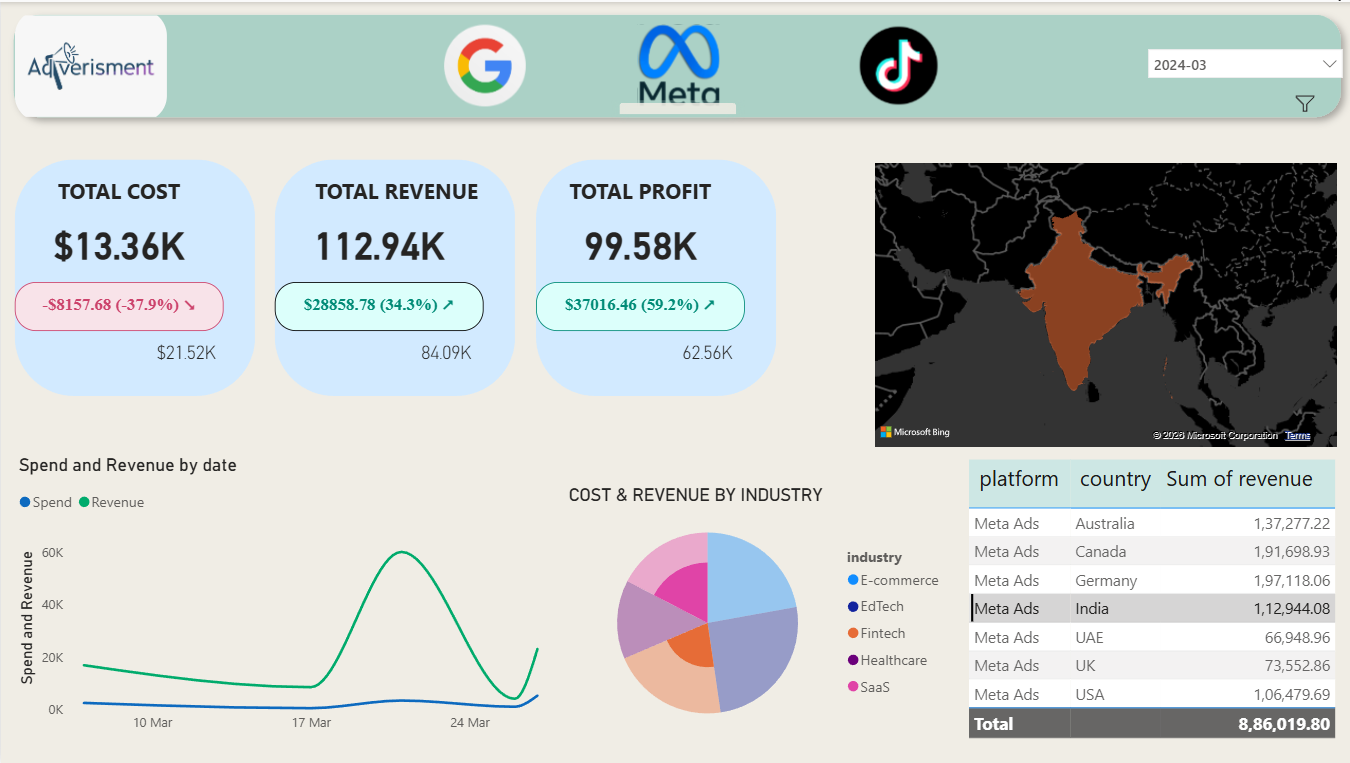

Layout of this report page (visuals, bound fields, positions):
{"tool":"powerbi","page":{"name":"Page 1","canvas":[1280,720],"ordinal":0},"visuals":[{"type":"shape","box":[505.7,148.9,227.5,223.8],"z":0,"group":"g2"},{"type":"shape","box":[259.3,149.1,227.5,223.8],"z":0,"group":"g3"},{"type":"group","id":"g1","title":"Group 1","box":[12.5,149.3,226.7,223.3],"z":0},{"type":"shape","box":[12.5,149.3,227.5,223.8],"z":0,"group":"g1"},{"type":"shape","box":[0,0,1279.7,121],"z":1000},{"type":"slicer","fields":{"Values":["Date Table.YearMonth"]},"box":[1075,33.8,204.7,53.4],"z":2000},{"type":"card","title":"TOTAL PROFIT","fields":{"Values":["global_ads_performance_dataset.Selected Month PROFIT"]},"box":[505.7,163.9,197.5,101.2],"z":3000,"group":"g2"},{"type":"card","title":"TOTAL REVENUE","fields":{"Values":["global_ads_performance_dataset.Selected Month REVENUE"]},"box":[259.3,164.1,197.5,101.2],"z":3000,"group":"g3"},{"type":"card","title":"TOTAL COST","fields":{"Values":["global_ads_performance_dataset.Selected Month COST"]},"box":[12.5,164.3,197.5,101.2],"z":3000,"group":"g1"},{"type":"lineStackedColumnComboChart","fields":{"Category":["global_ads_performance_dataset.date"],"Y2":["Sum(global_ads_performance_dataset.ad_spend)","Sum(global_ads_performance_dataset.revenue)"]},"box":[11.7,427.7,519.9,271.7],"z":3000},{"type":"slicer","fields":{"Values":["global_ads_performance_dataset.platform"]},"box":[1216.2,70.7,36.1,50.5],"z":4000},{"type":"card","fields":{"Values":["global_ads_performance_dataset.Previous Month PROFIT"]},"box":[604.5,311.4,128.8,41.2],"z":4000,"group":"g2"},{"type":"card","fields":{"Values":["global_ads_performance_dataset.Previous Month REVENUE"]},"box":[358.1,311.6,128.8,41.2],"z":4000,"group":"g3"},{"type":"card","fields":{"Values":["global_ads_performance_dataset.Previous Month COST"]},"box":[111.3,311.8,128.8,41.2],"z":4000,"group":"g1"},{"type":"image","box":[12.5,7.1,144.2,106.8],"z":5000},{"type":"actionButton","box":[414.7,14.2,85.4,92.5],"z":6000},{"type":"card","fields":{"Values":["global_ads_performance_dataset.PROFIT Text Variation"]},"box":[505.7,265.2,197.5,46.2],"z":6000,"group":"g2"},{"type":"card","fields":{"Values":["global_ads_performance_dataset.REVENUE Text Variation"]},"box":[259.3,265.3,197.5,46.2],"z":6000,"group":"g3"},{"type":"card","fields":{"Values":["global_ads_performance_dataset.Alphabet Text Variation"]},"box":[12.5,265.5,197.5,46.2],"z":6000,"group":"g1"},{"type":"actionButton","box":[598,14.2,85.4,92.5],"z":7000},{"type":"actionButton","box":[806.2,14.2,85.4,92.5],"z":8000},{"type":"shape","box":[784.9,87.2,126.4,26.7],"z":11000},{"type":"group","id":"g2","title":"Group 2","box":[505.7,148.9,227.5,223.8],"z":12000},{"type":"group","id":"g3","title":"Group 3","box":[259.3,149.1,227.5,223.8],"z":13000},{"type":"pieChart","title":"COST & REVENUE BY INDUSTRY","fields":{"Category":["global_ads_performance_dataset.industry"],"Series":["global_ads_performance_dataset.platform"],"Y":["Sum(global_ads_performance_dataset.revenue)"]},"box":[531.7,456.2,369,243.2],"z":14000},{"type":"filledMap","fields":{"Category":["global_ads_performance_dataset.country"],"Series":["global_ads_performance_dataset.industry"]},"box":[821.7,148.3,446.7,278.3],"z":15000},{"type":"tableEx","fields":{"Values":["global_ads_performance_dataset.platform","global_ads_performance_dataset.country","Sum(global_ads_performance_dataset.revenue)"]},"box":[909,427.7,358.9,291.8],"z":16000}]}

Visuals, with their boxes in screenshot pixels (x1, y1, x2, y2), scaled from the page's 1280x720 canvas onto the 1350x763 screenshot:
shape: left=533, top=158, right=773, bottom=395
shape: left=273, top=158, right=513, bottom=395
"Group 1" group: left=13, top=158, right=252, bottom=395
shape: left=13, top=158, right=253, bottom=395
shape: left=0, top=0, right=1349, bottom=128
slicer - Date Table.YearMonth: left=1134, top=36, right=1349, bottom=92
"TOTAL PROFIT" card: left=533, top=174, right=742, bottom=281
"TOTAL REVENUE" card: left=273, top=174, right=482, bottom=281
"TOTAL COST" card: left=13, top=174, right=221, bottom=281
lineStackedColumnComboChart - global_ads_performance_dataset.date x Sum(global_ads_performance_dataset.ad_spend): left=12, top=453, right=561, bottom=741
slicer - global_ads_performance_dataset.platform: left=1283, top=75, right=1321, bottom=128
card - global_ads_performance_dataset.Previous Month PROFIT: left=638, top=330, right=773, bottom=374
card - global_ads_performance_dataset.Previous Month REVENUE: left=378, top=330, right=514, bottom=374
card - global_ads_performance_dataset.Previous Month COST: left=117, top=330, right=253, bottom=374
image: left=13, top=8, right=165, bottom=121
actionButton: left=437, top=15, right=527, bottom=113
card - global_ads_performance_dataset.PROFIT Text Variation: left=533, top=281, right=742, bottom=330
card - global_ads_performance_dataset.REVENUE Text Variation: left=273, top=281, right=482, bottom=330
card - global_ads_performance_dataset.Alphabet Text Variation: left=13, top=281, right=221, bottom=330
actionButton: left=631, top=15, right=721, bottom=113
actionButton: left=850, top=15, right=940, bottom=113
shape: left=828, top=92, right=961, bottom=121
"Group 2" group: left=533, top=158, right=773, bottom=395
"Group 3" group: left=273, top=158, right=513, bottom=395
"COST & REVENUE BY INDUSTRY" pieChart: left=561, top=483, right=950, bottom=741
filledMap - global_ads_performance_dataset.country x global_ads_performance_dataset.industry: left=867, top=157, right=1338, bottom=452
tableEx - global_ads_performance_dataset.platform x global_ads_performance_dataset.country: left=959, top=453, right=1337, bottom=762
